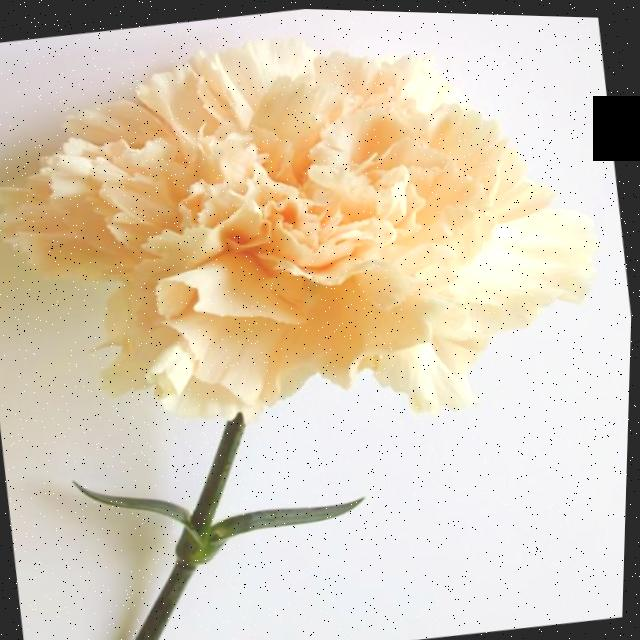carnation: (0, 0, 610, 472)
